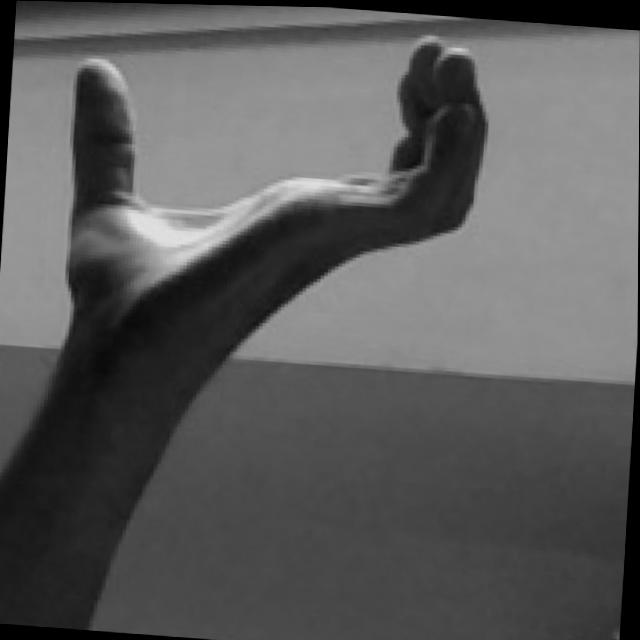space: (61, 1, 494, 364)
